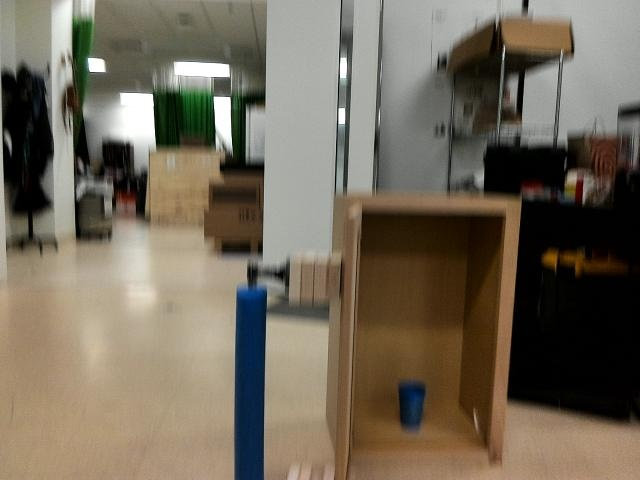noodle_handle: (228, 273, 273, 480)
water_cup: (396, 374, 428, 436)
